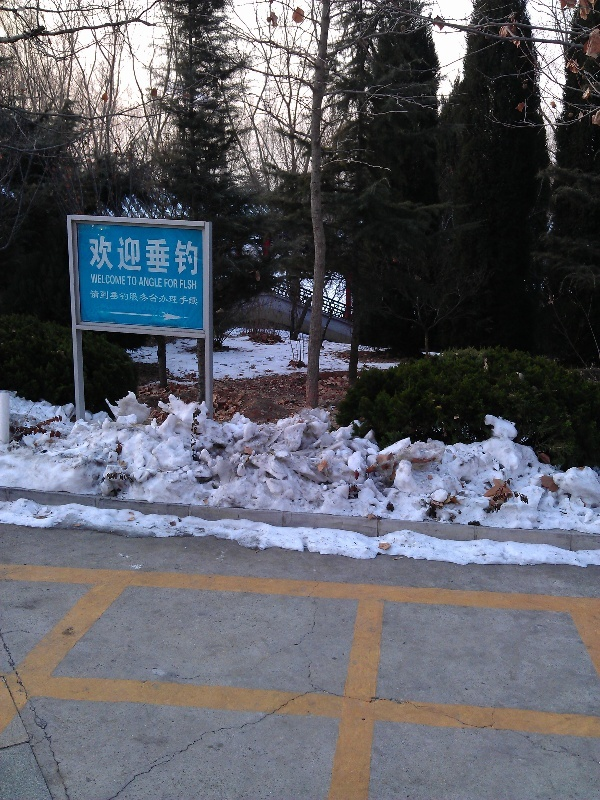text: (97, 235, 112, 276), (113, 235, 128, 276), (129, 235, 144, 276), (145, 235, 160, 276), (161, 235, 176, 276), (177, 235, 192, 276), (88, 235, 96, 276), (193, 235, 200, 276), (97, 290, 112, 306), (113, 290, 128, 306), (129, 290, 144, 306), (145, 290, 160, 306), (161, 290, 176, 306), (177, 290, 192, 306), (97, 274, 112, 286), (145, 277, 160, 288), (113, 274, 126, 286), (180, 280, 192, 290), (165, 279, 176, 289), (90, 290, 96, 306), (193, 290, 199, 306), (129, 276, 138, 286), (91, 274, 96, 286), (193, 280, 198, 290), (140, 277, 144, 288), (161, 277, 163, 288), (177, 279, 178, 289)
